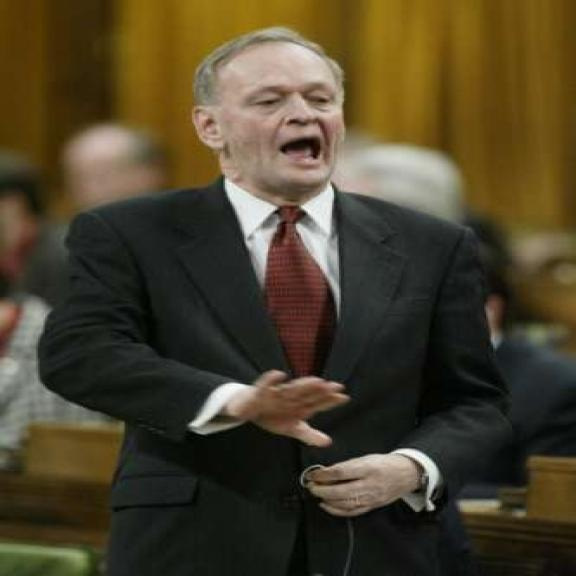face: (188, 44, 347, 195)
